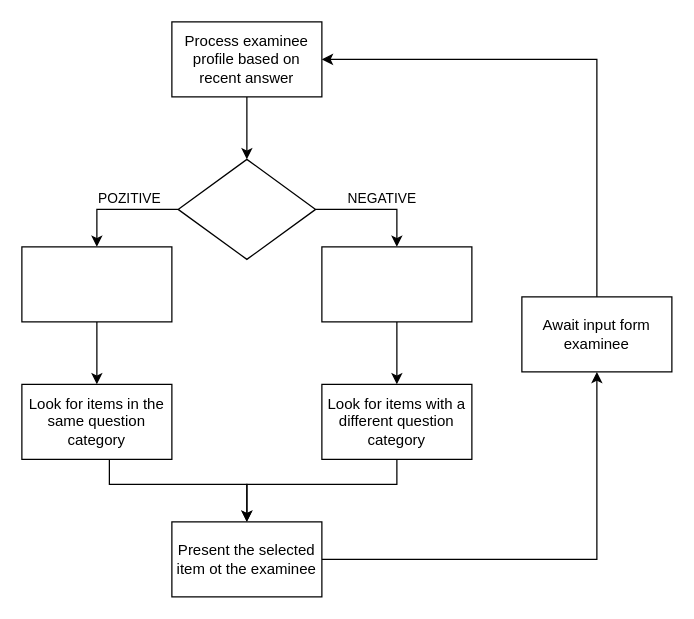
Some shapes in this 694 by 619 pixel diagram are drawn without their labels. The shapes that lost their labels are listed below. From the top down, each one's box as (x1, y1, x2, y2) in pixels, then its label:
(177, 158, 316, 259): Corectness of the answer
(21, 246, 172, 322): Select a item with higher difficulty
(321, 246, 472, 322): Select an item with lower difficulty
